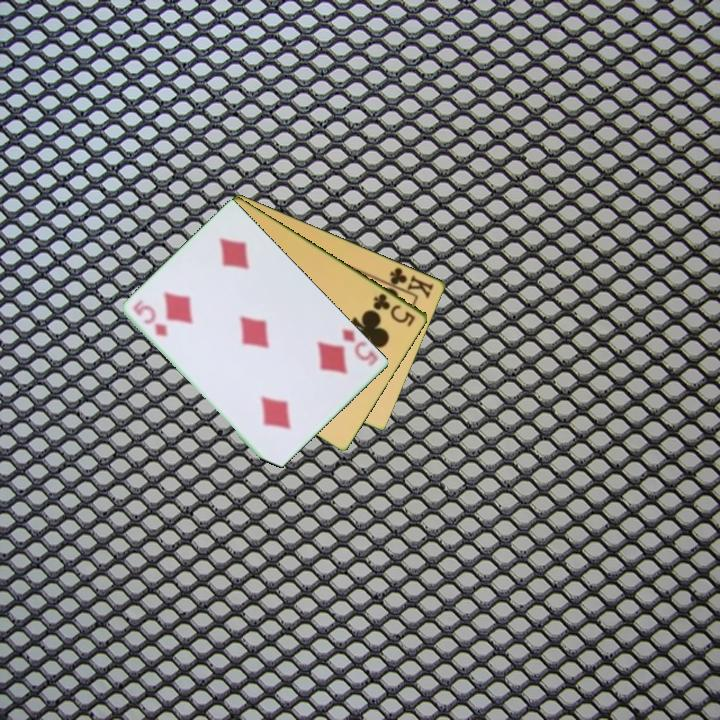5c: (370, 290, 419, 329)
5d: (338, 325, 381, 366), (129, 298, 171, 339)
Kc: (380, 264, 437, 301)
